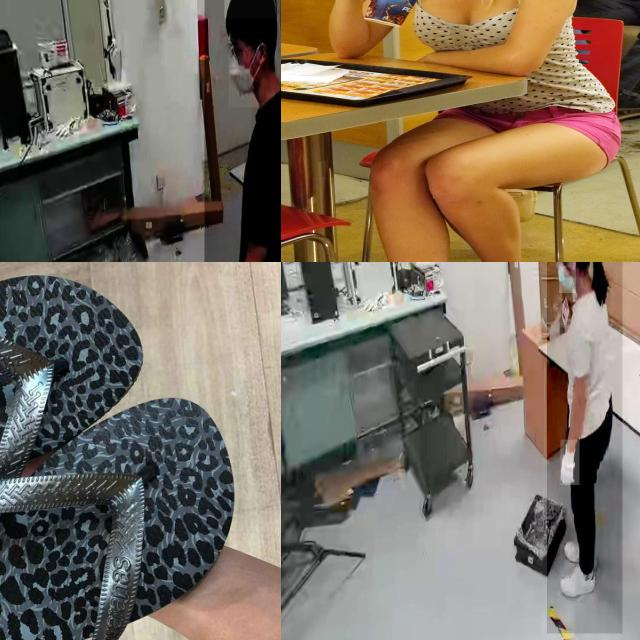Sandals: (0, 262, 252, 640)
face_mask: (228, 21, 264, 107), (559, 262, 576, 293)
hand_glove: (560, 440, 580, 486)
head_nohelmet: (224, 0, 276, 19)
person: (547, 262, 623, 634), (204, 0, 281, 262)
shoes: (559, 561, 596, 599)
